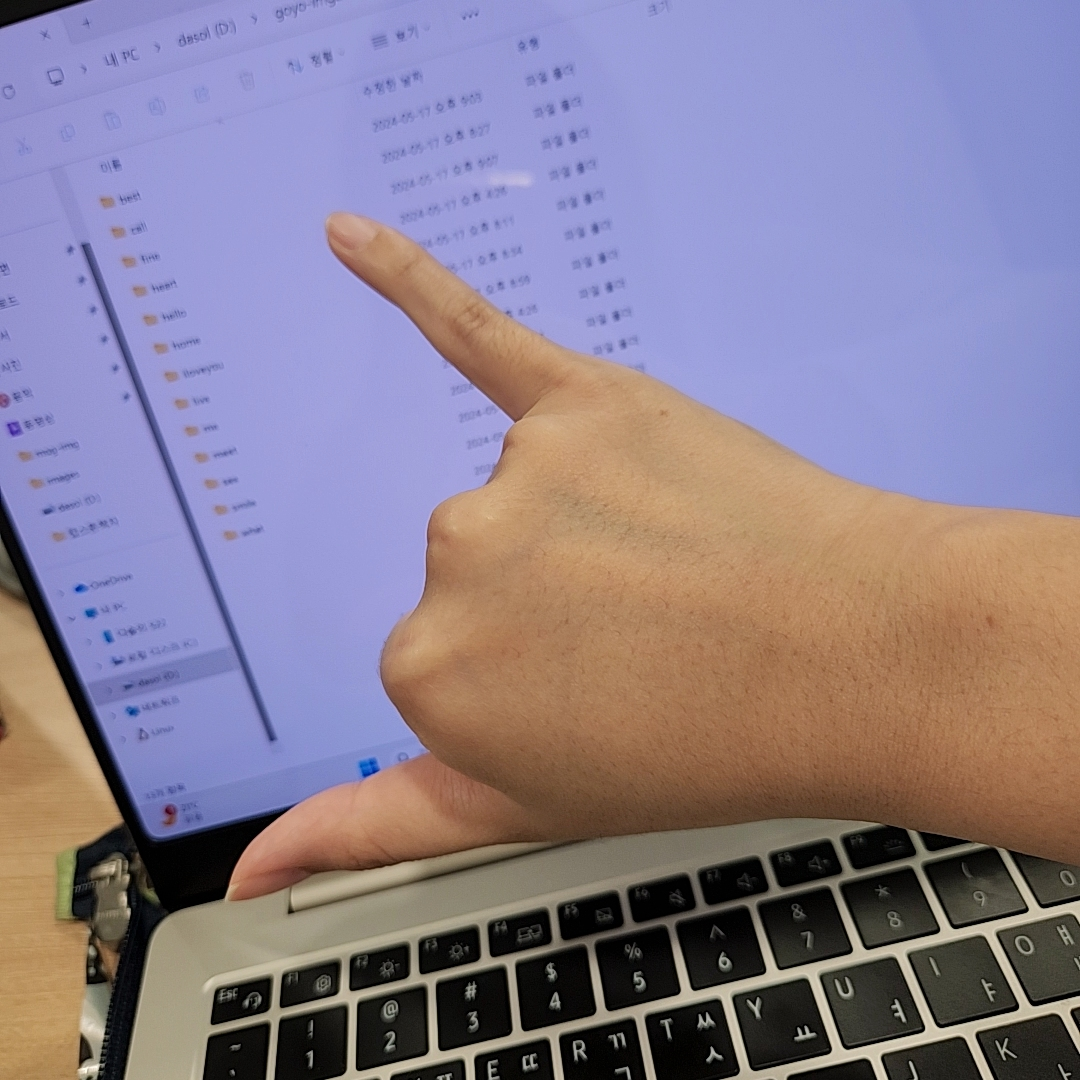call: (224, 210, 817, 904)
